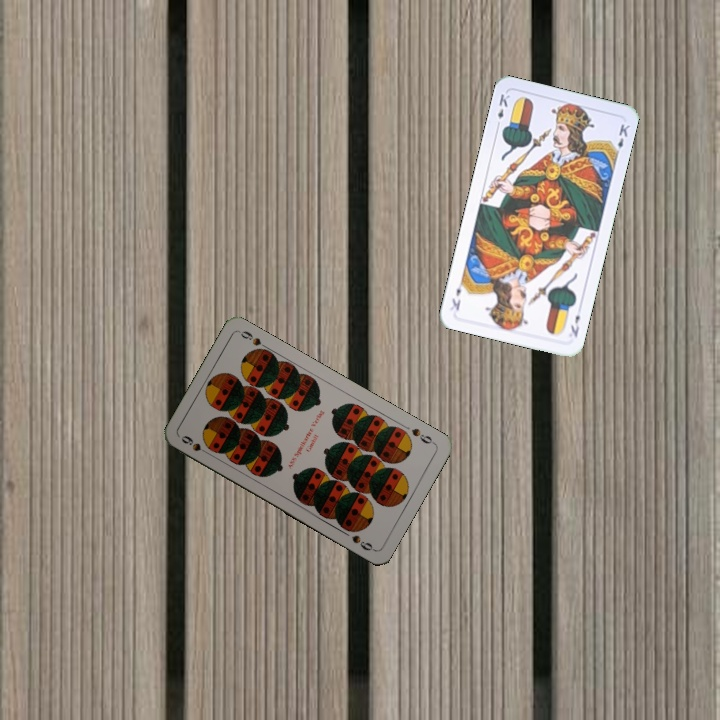EK: (492, 90, 512, 130), (566, 311, 583, 340)
S9: (177, 431, 214, 458), (408, 424, 438, 447)
